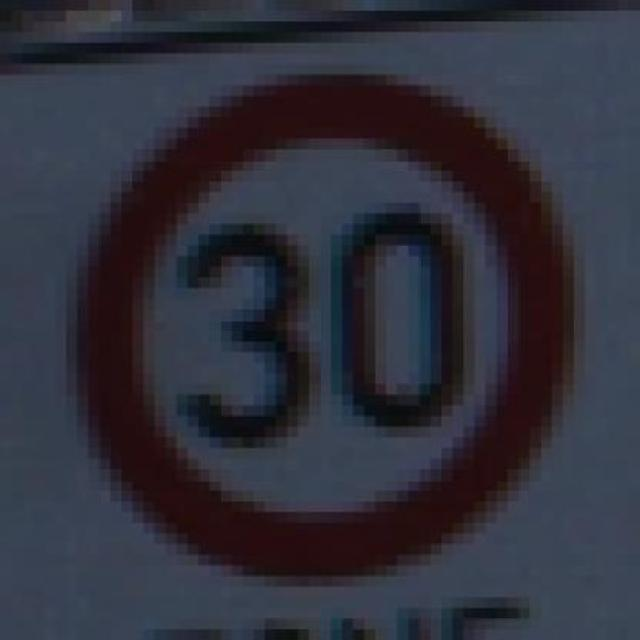Speed Limit 30 KMPh: (22, 85, 607, 587)
